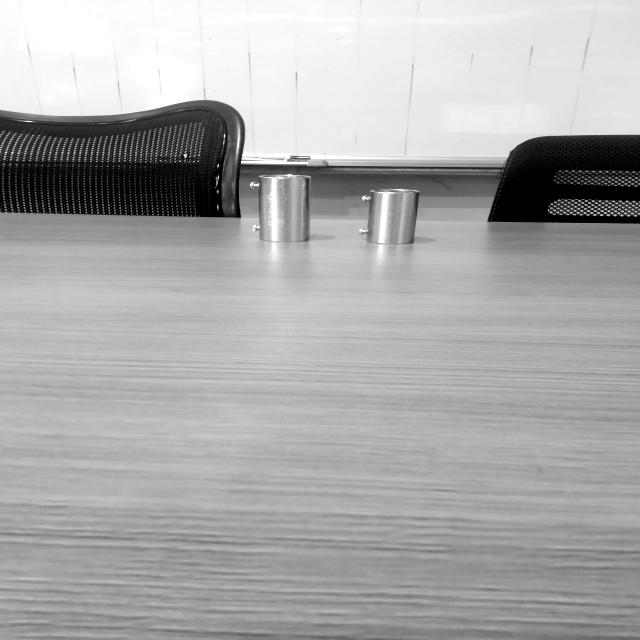Co_Lon: (250, 174, 309, 242)
Co_Nho: (358, 188, 421, 245)
